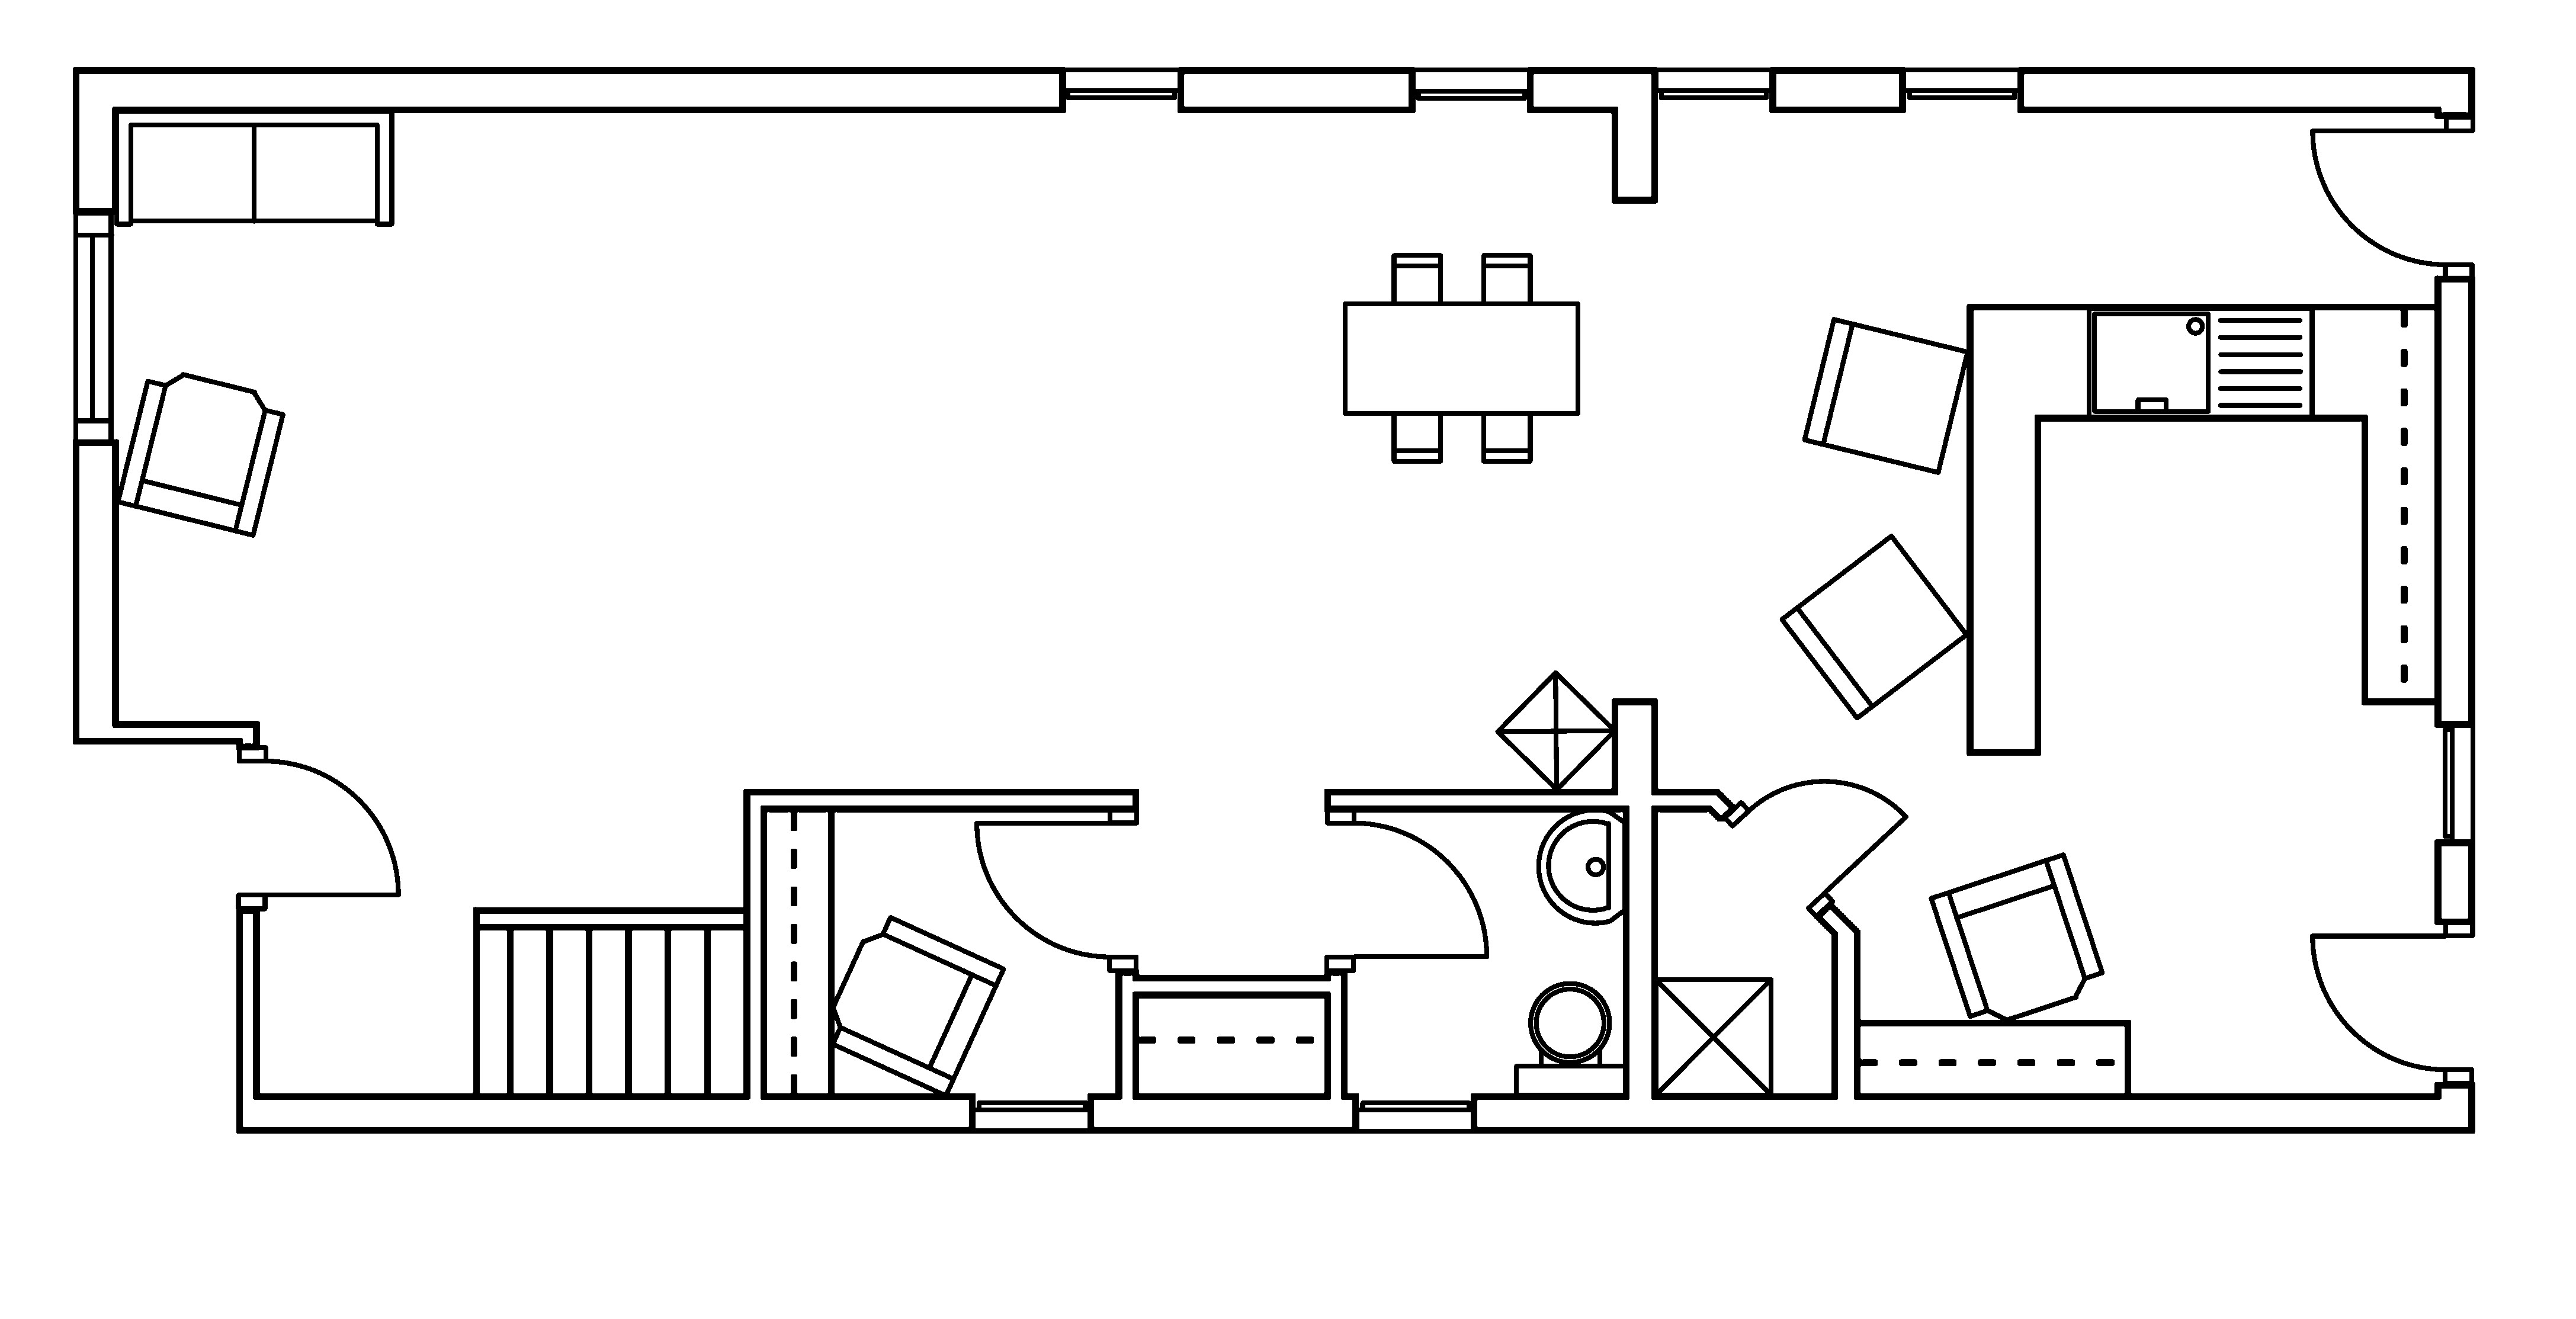armchair: (829, 914, 1006, 1099), (1927, 851, 2105, 1023), (114, 370, 286, 538)
coffee_table: (1493, 670, 1618, 792), (1651, 976, 1774, 1097)
dining_table: (1342, 252, 1581, 464)
large_sink: (1513, 981, 1628, 1097)
large_sofa: (113, 108, 395, 227)
sink: (2085, 305, 2314, 421)
small_sink: (1535, 808, 1628, 925)
small_sofa: (1777, 532, 1969, 720), (1801, 316, 1971, 474)
